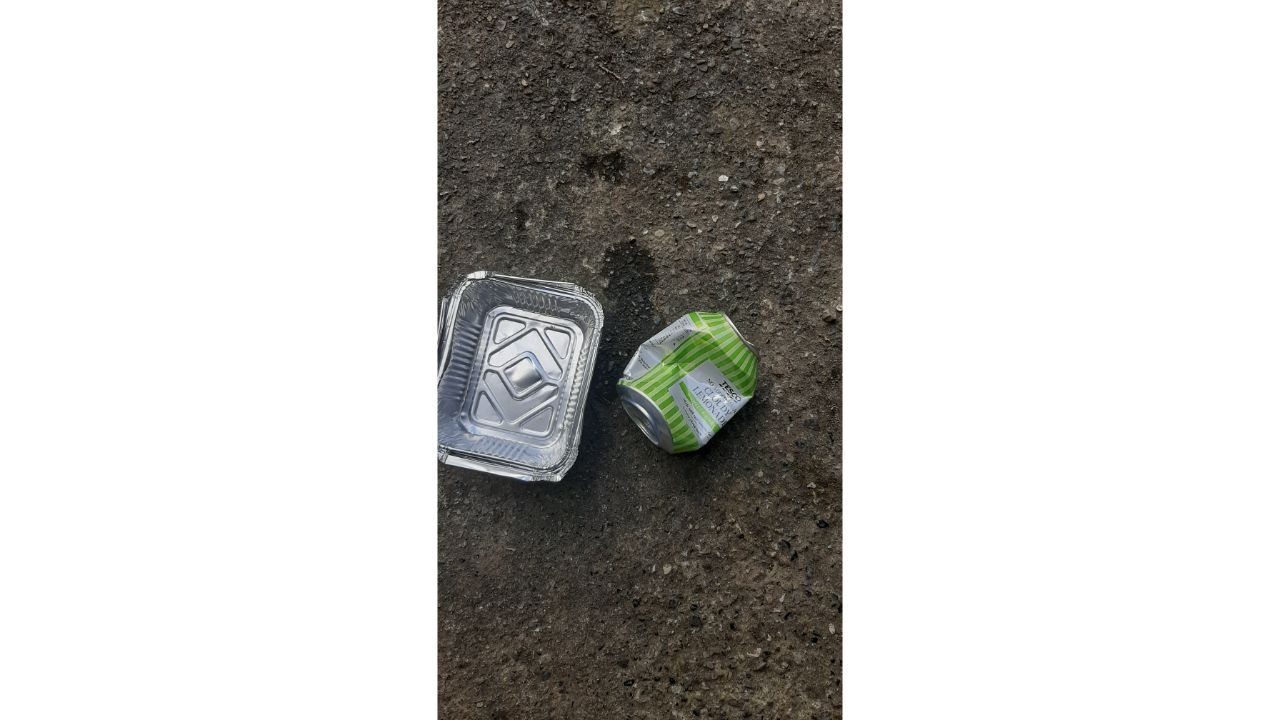Can: (610, 299, 766, 462)
